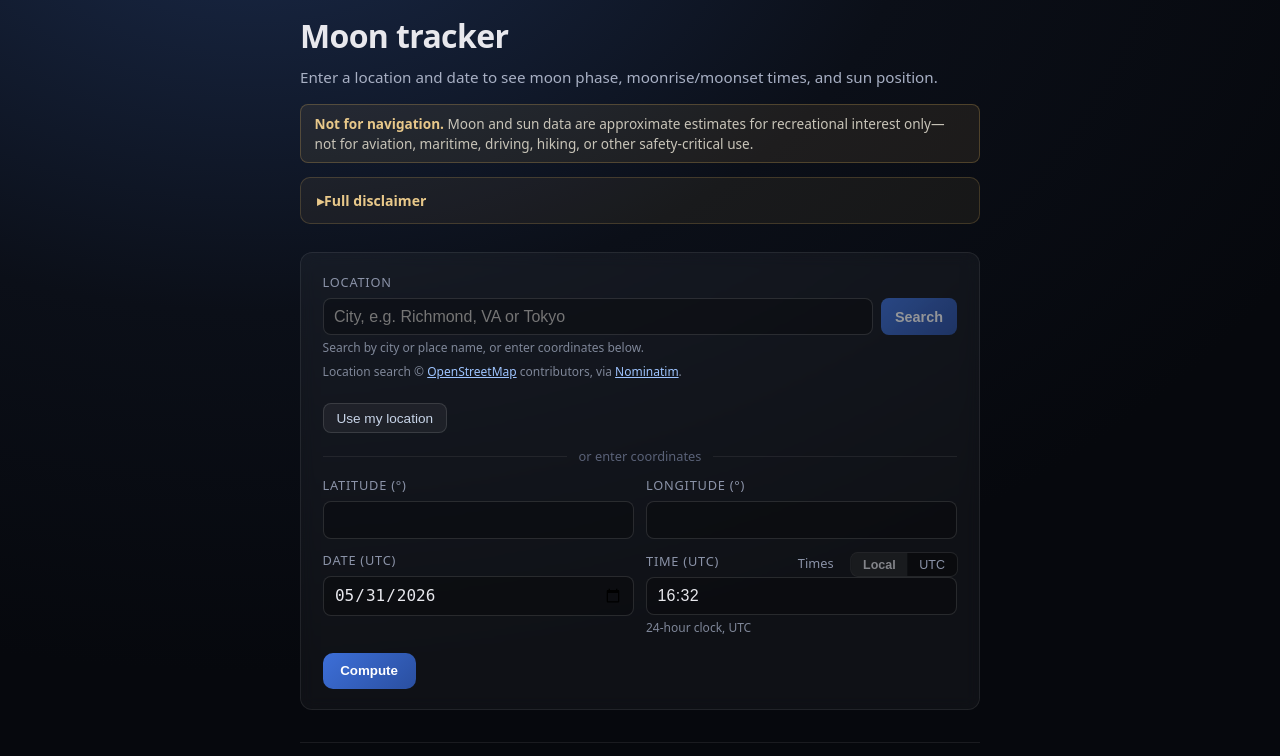
Test: App › shows UTC-only copy when no timezone is found for coordinates
The image size is (1280, 756).
Type "91" into the field labelled "Latitude (°)" at (478, 520), box [323,501,634,539]
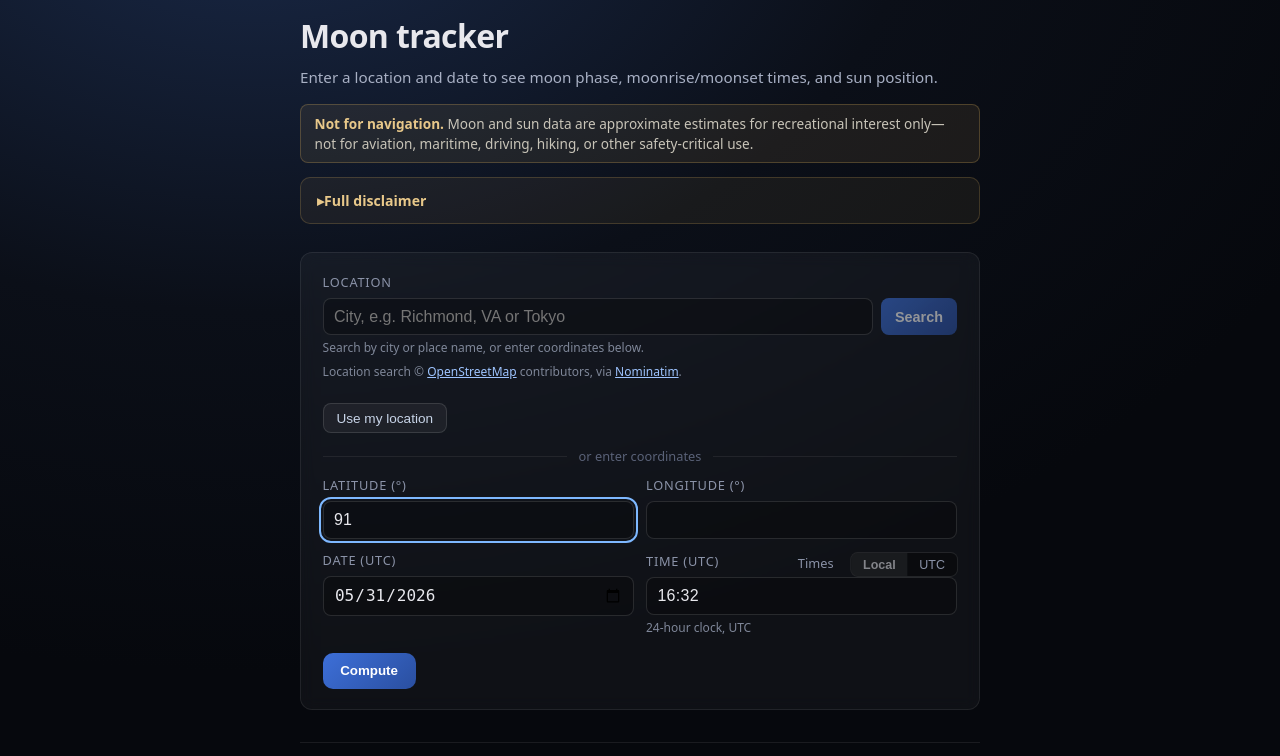
Type "0" into the field labelled "Longitude (°)" at (802, 520), box [646,501,957,539]
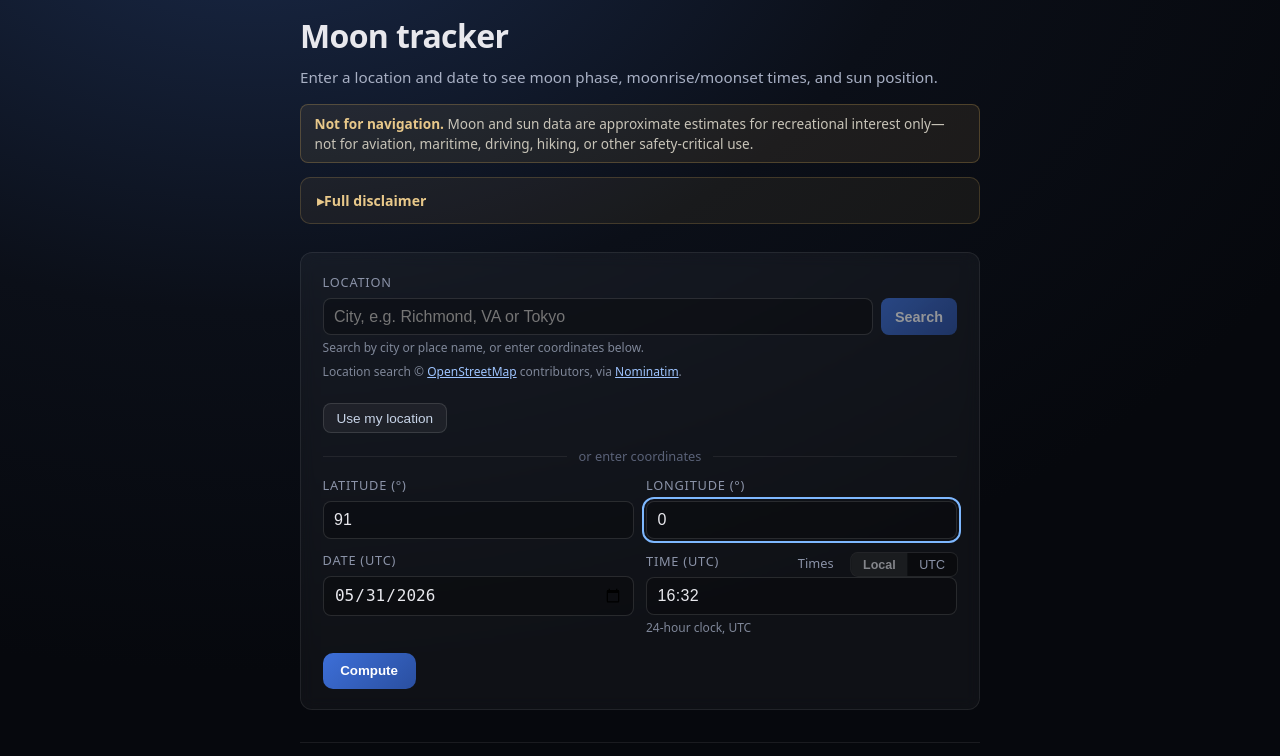
Click the button "Compute" at (369, 671), box [323,653,416,689]
(page scrolled)
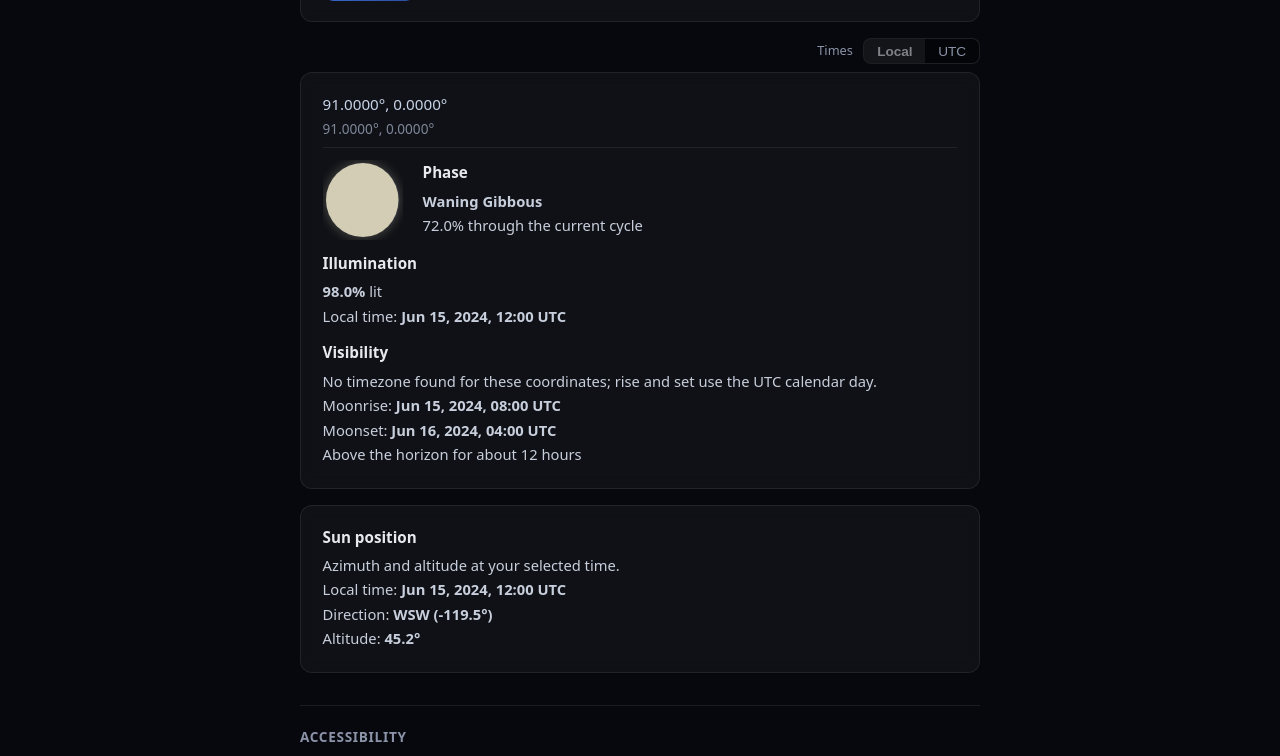
Check: the text "No timezone found for these coordinates" is shown, box [323,371,877,391]
